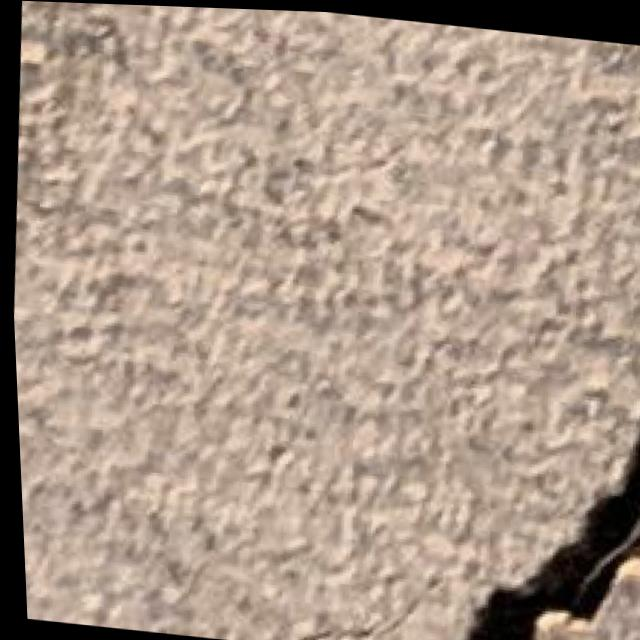Crack: (393, 391, 640, 640)
